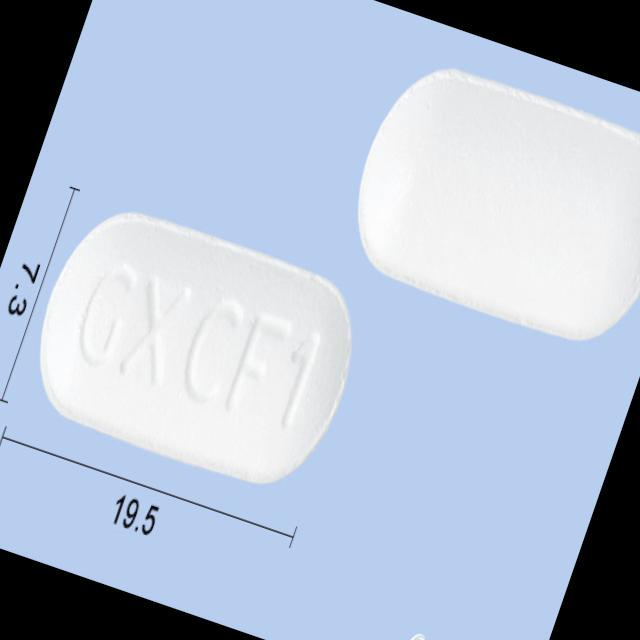Valtrex Tab: (13, 188, 377, 502)
